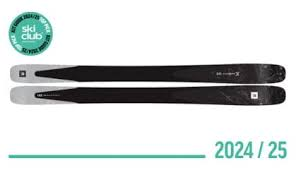skis: (7, 63, 289, 108)
